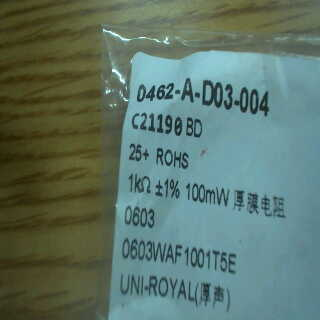1kR: (127, 171, 154, 194)
